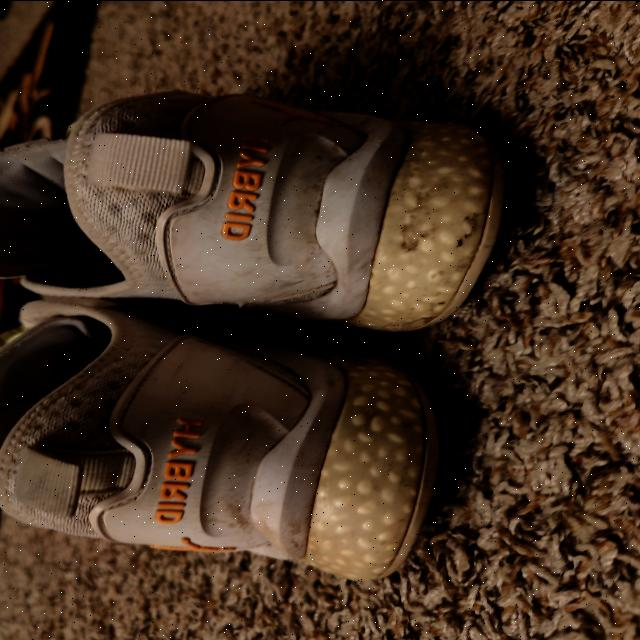white shoes: (0, 109, 491, 575)
